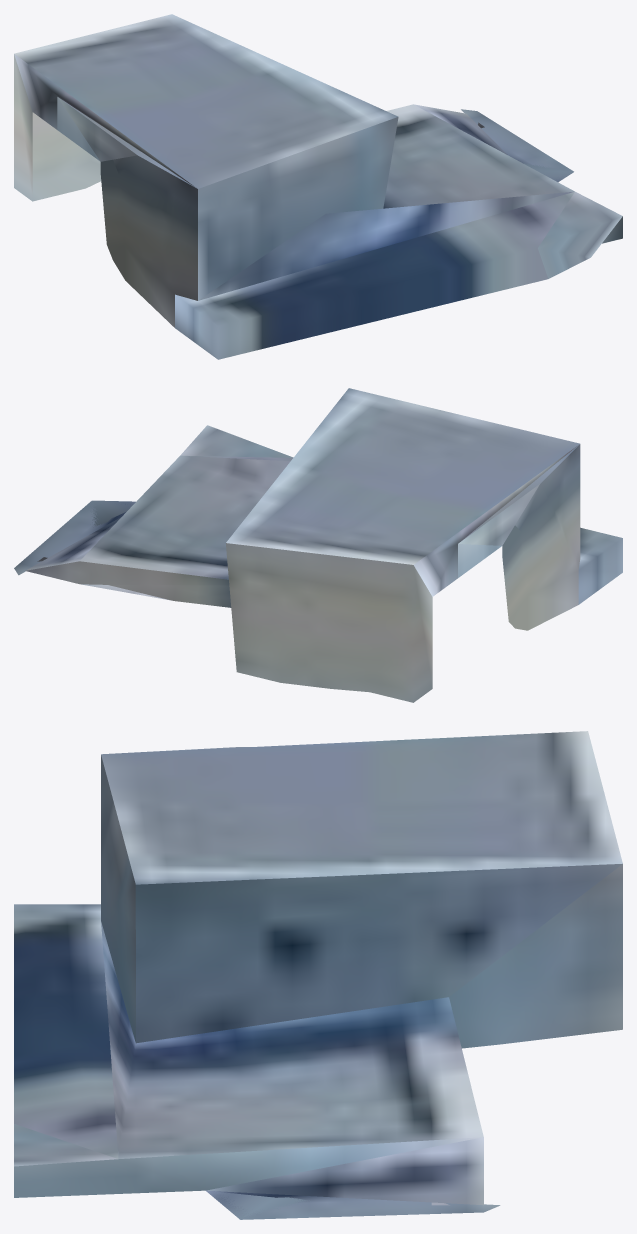
3 views of the same model, one above another, from view 1: azimuth 30°, elevation 25°; view 2: azimuth 150°, elevation 25°; view 3: azimuth 270°, elevation 25° (orthographic). The views are drawn at different scales.
Parts seen in each view (by area): view 1: 3043627270436171744_0; view 2: 3043627270436171744_0; view 3: 3043627270436171744_0.
Part boxes in pixels (x1,y1,x2,y2): 3043627270436171744_0: (14, 14, 622, 359); 3043627270436171744_0: (14, 388, 622, 702); 3043627270436171744_0: (14, 731, 622, 1219).
Size of the model in its own units: 12.58 by 4.32 by 10.8.
1 material, 1 textured.
